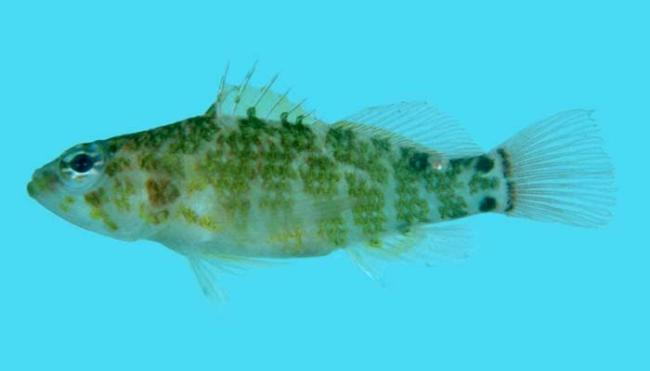fish: (27, 58, 616, 301)
